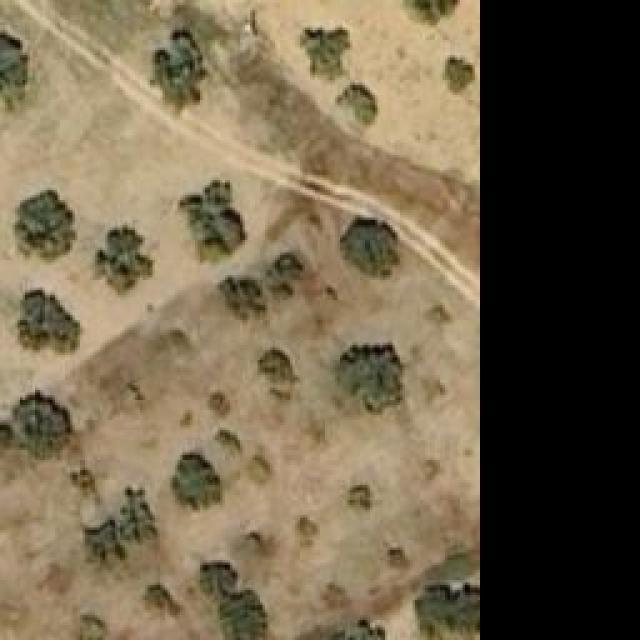Tree: (178, 180, 248, 263), (83, 488, 158, 563), (333, 343, 403, 413), (10, 290, 83, 355), (13, 188, 76, 263), (150, 33, 210, 108), (413, 577, 483, 639), (13, 393, 78, 458), (95, 227, 153, 295), (340, 218, 400, 278), (170, 450, 220, 508), (300, 28, 350, 83), (0, 30, 30, 113), (217, 588, 265, 638), (220, 278, 265, 323), (265, 255, 305, 303), (335, 85, 378, 125), (140, 583, 183, 623), (197, 560, 235, 600), (258, 348, 298, 383), (407, 0, 455, 28), (443, 52, 473, 90), (235, 535, 273, 563), (247, 453, 275, 488), (347, 485, 375, 513), (205, 388, 233, 413), (298, 512, 321, 540), (425, 305, 453, 323)
